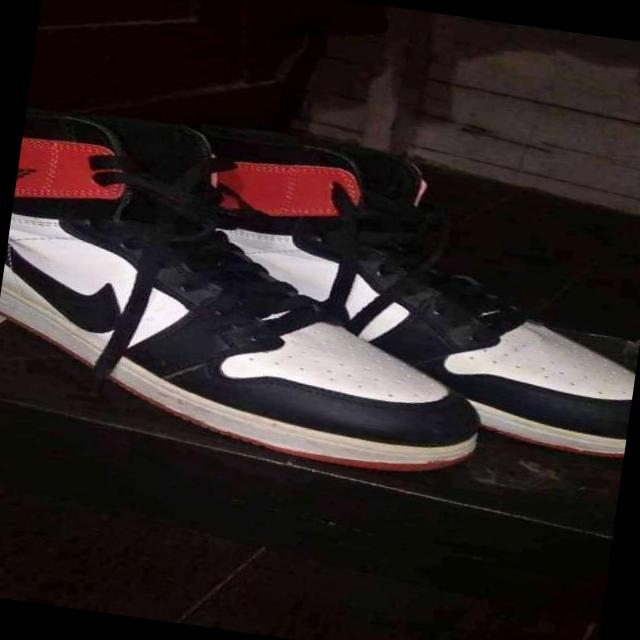nike_fake_jordan: (0, 102, 522, 488), (174, 126, 640, 461)
